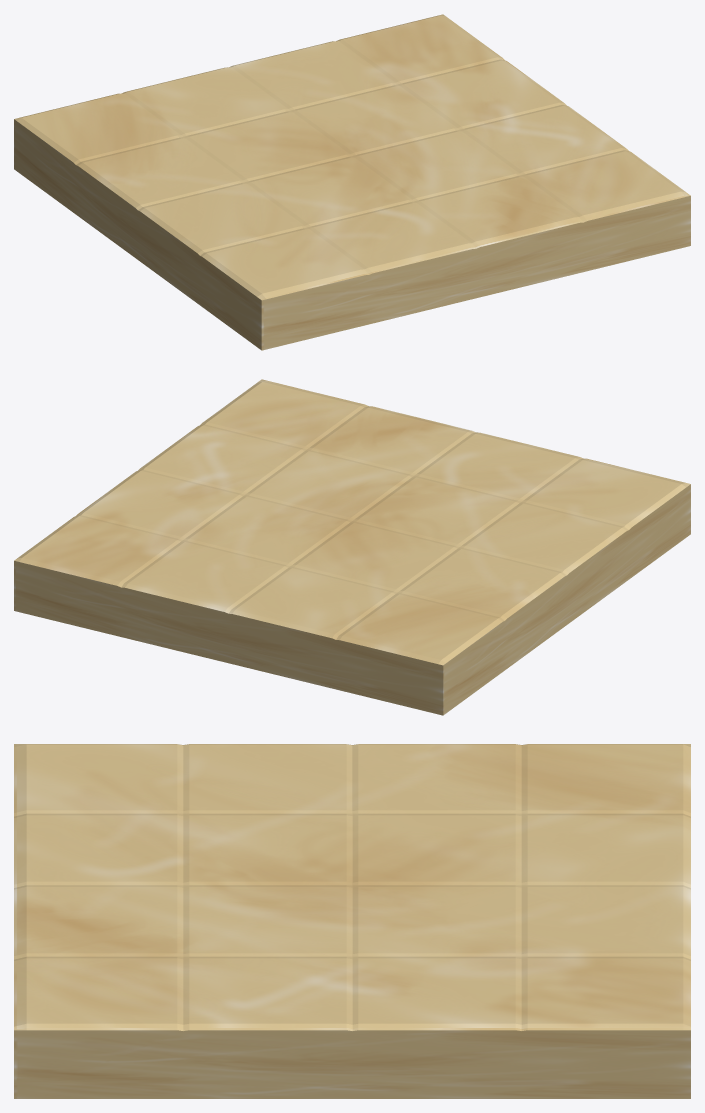
File: textured indian floor 2.fbx
3 views of the same model, one above another, from view 1: azimuth 30°, elevation 25°; view 2: azimuth 150°, elevation 25°; view 3: azimuth 270°, elevation 25° (orthographic). The views are drawn at different scales.
Visible parts, largest first — view 1: Cube.013; view 2: Cube.013; view 3: Cube.013.
Boxes of the visible parts, box(x1,y1,x2,y2) form: Cube.013: box(14, 14, 690, 350); Cube.013: box(14, 379, 690, 715); Cube.013: box(14, 744, 690, 1098).
Size of the model in its own units: 378 by 378 by 44.02.
1 material, 1 textured.
